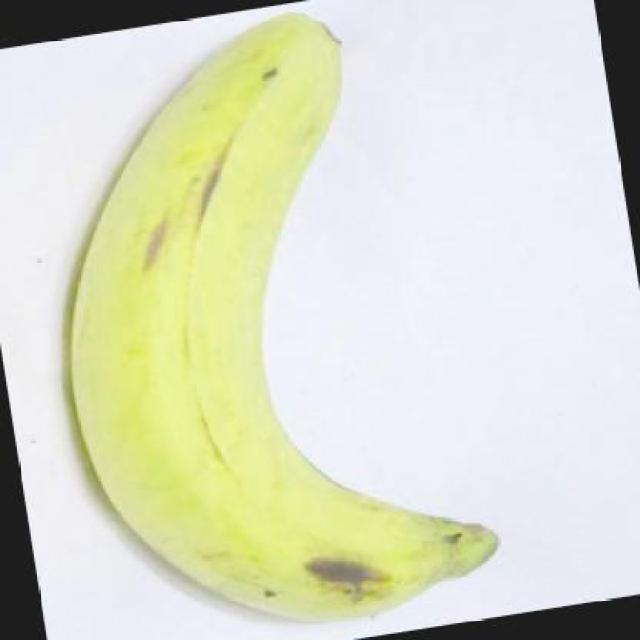ripe: (62, 22, 524, 632)
